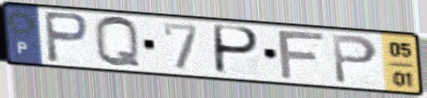7: (160, 21, 201, 73)
F: (275, 30, 328, 82)
P: (41, 9, 92, 66), (329, 32, 381, 86), (212, 23, 263, 77)
Q: (92, 14, 144, 70)
